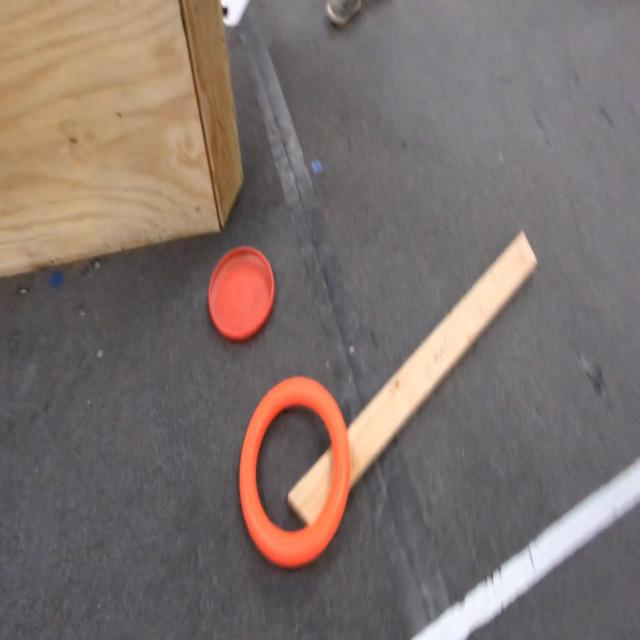note: (240, 379, 349, 564)
